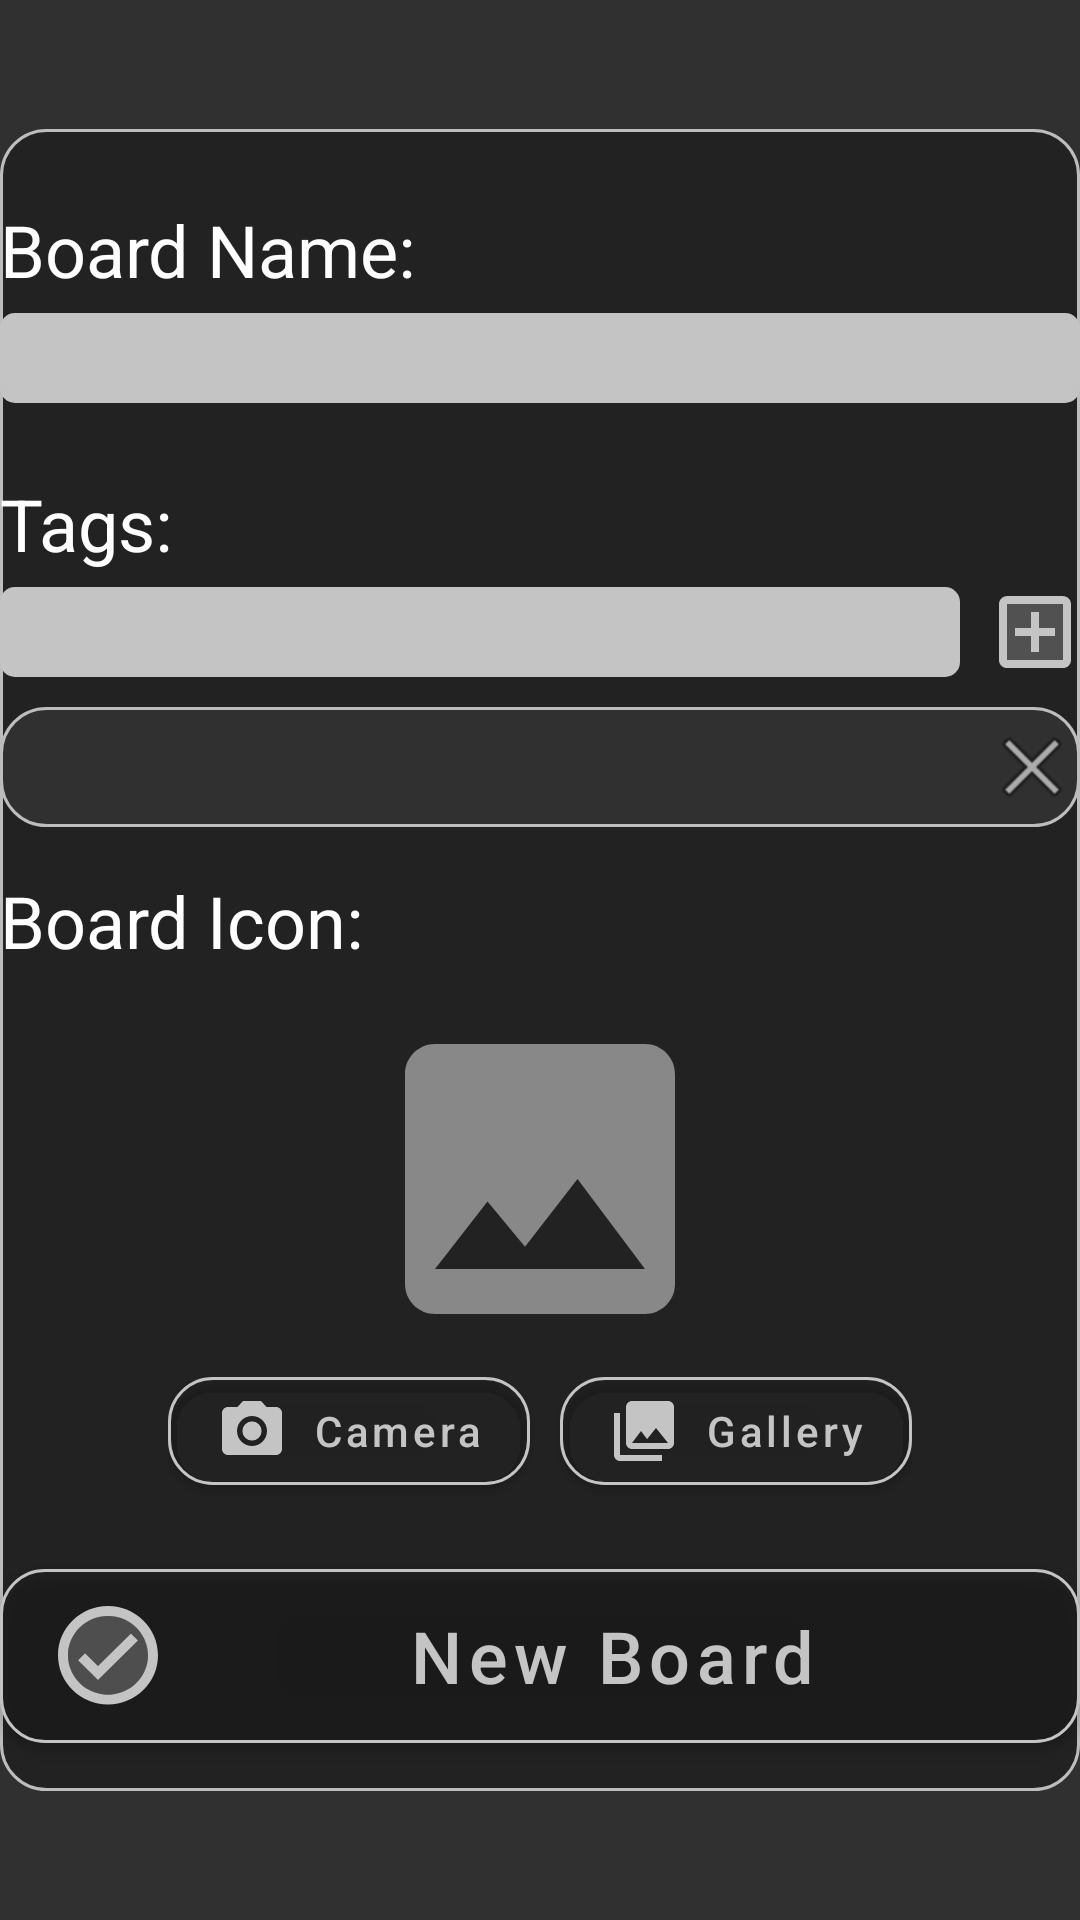

Screen size 1080 × 1920. Icon name, then its center in pixels as (x,y):
add tag: (1035,632)
close clear cancel: (1032,767)
